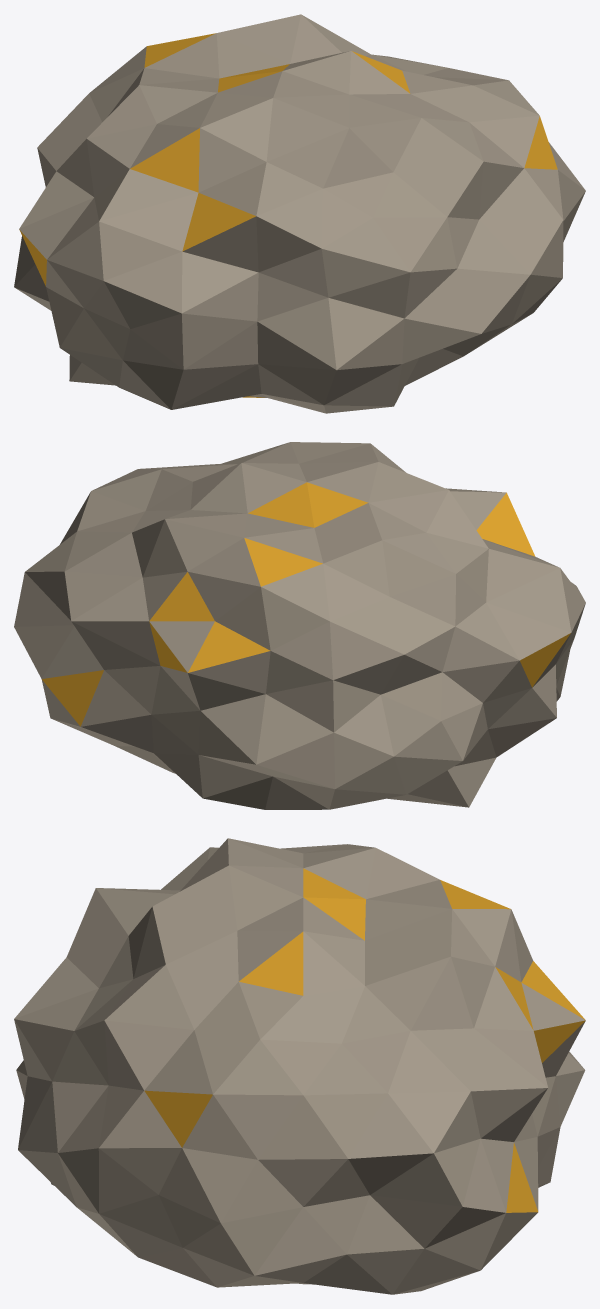
The model's file is DV_Rock_TuffBoulder.obj.
The picture shows the model from 3 angles, top to bottom: view 1: azimuth 30°, elevation 25°; view 2: azimuth 150°, elevation 25°; view 3: azimuth 270°, elevation 25°; orthographic projection. The views are drawn at different scales.
Visible parts, largest first — view 1: DV_Rock_TuffBoulder; view 2: DV_Rock_TuffBoulder; view 3: DV_Rock_TuffBoulder.
Part boxes in pixels (left/top/right/bottom): DV_Rock_TuffBoulder: left=14, top=14, right=585, bottom=413; DV_Rock_TuffBoulder: left=14, top=442, right=585, bottom=809; DV_Rock_TuffBoulder: left=14, top=838, right=585, bottom=1294.
Size of the model in its own units: 7.7 by 4.03 by 6.44.
